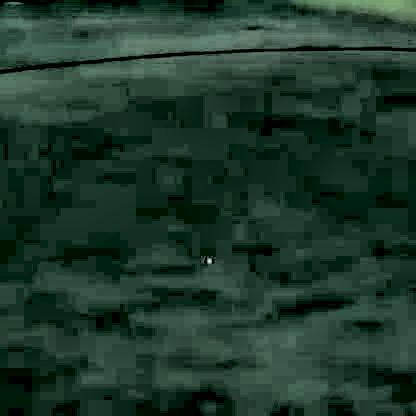golfball: (202, 256, 212, 263)
